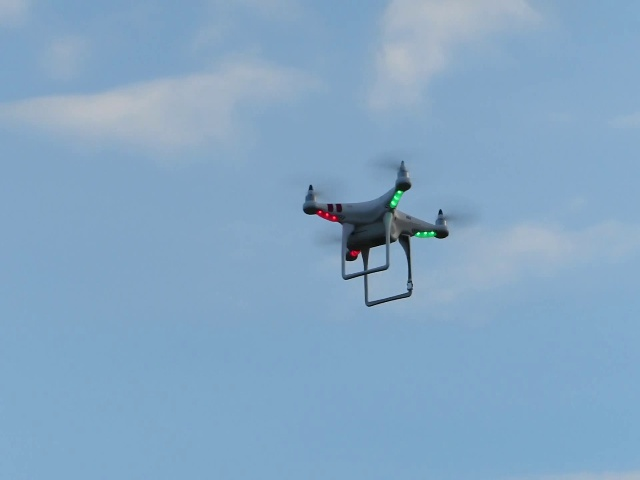drone: (288, 151, 471, 309)
